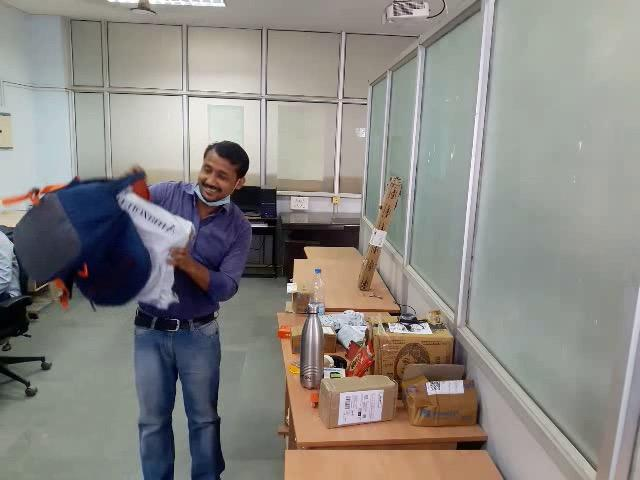shoplifting: (1, 158, 198, 348)
